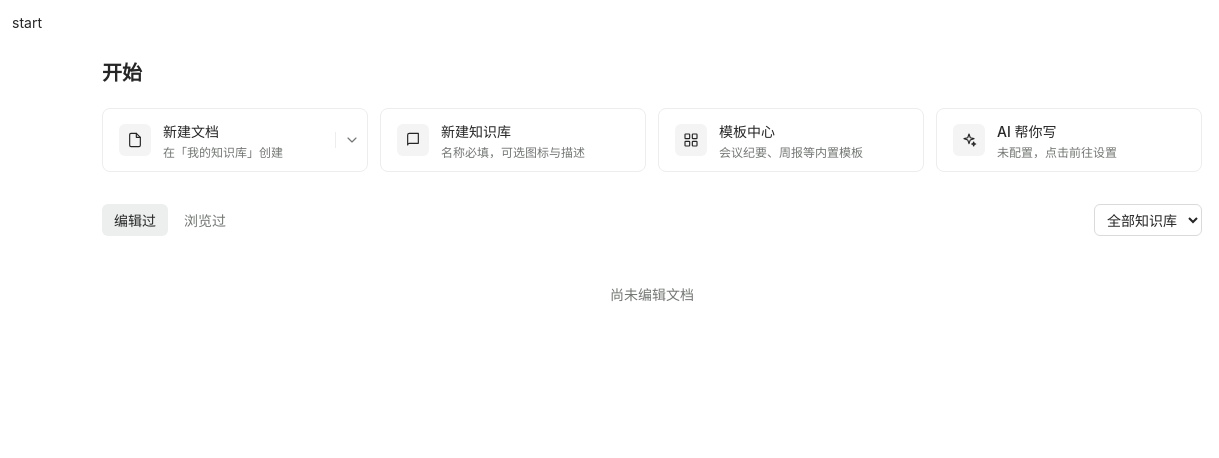
Test: StartPage › 点击新建文档主区域在最近知识库创建并打开
The width and height of the screenshot is (1219, 458).
Click the button "新建文档 在「我的知识库」创建" at (219, 140), box [103, 109, 335, 171]
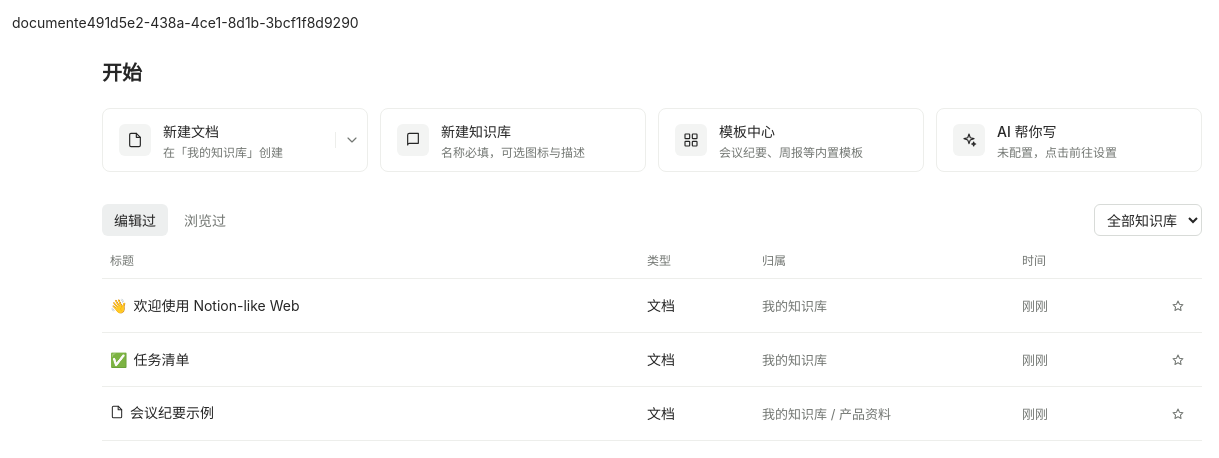
Expected: the element with test id "page" does not show ""
Expected: the text with test id "view" reads "document", [12, 14, 78, 31]
